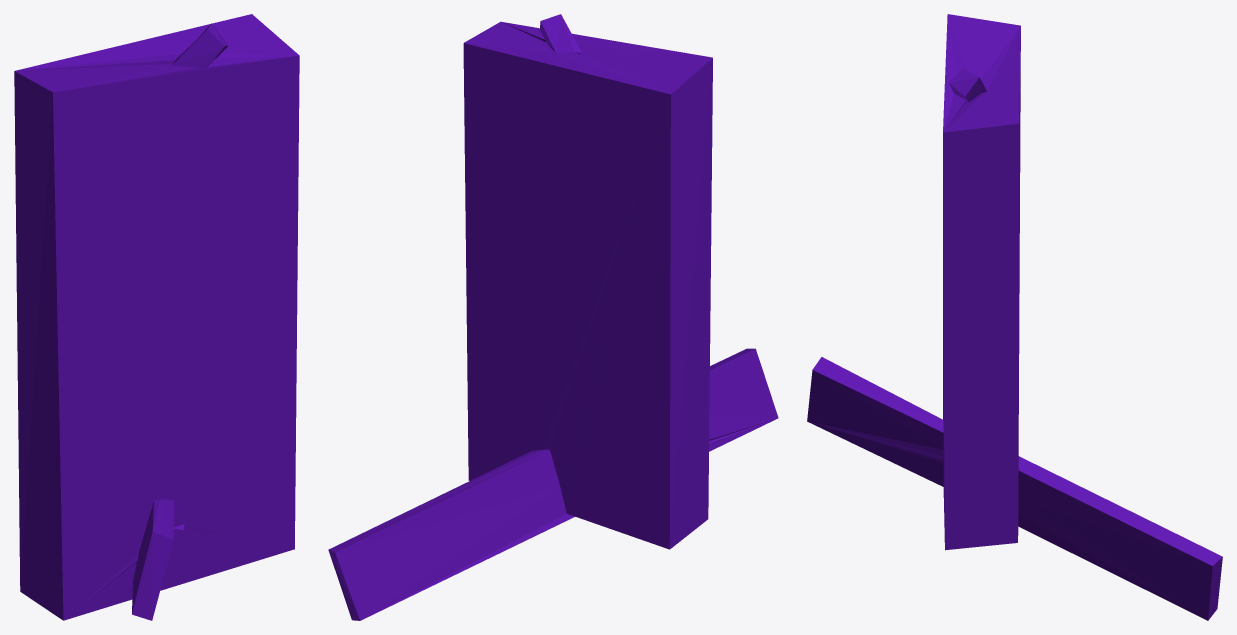
The picture shows the model from 3 angles, left to right: view 1: azimuth 30°, elevation 25°; view 2: azimuth 150°, elevation 25°; view 3: azimuth 270°, elevation 25°; orthographic projection. The views are drawn at different scales.
Parts seen in each view (by area): view 1: 395_Cube.1604; view 2: 395_Cube.1604; view 3: 395_Cube.1604.
Boxes of the visible parts, x1,y1,x2,y2 form: 395_Cube.1604: (14, 14, 299, 620); 395_Cube.1604: (328, 14, 778, 620); 395_Cube.1604: (807, 14, 1222, 620).
Size of the model in its own units: 6.93 by 14.29 by 10.47.
